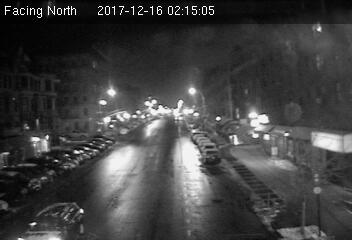car: (19, 203, 87, 240), (203, 150, 222, 163)
